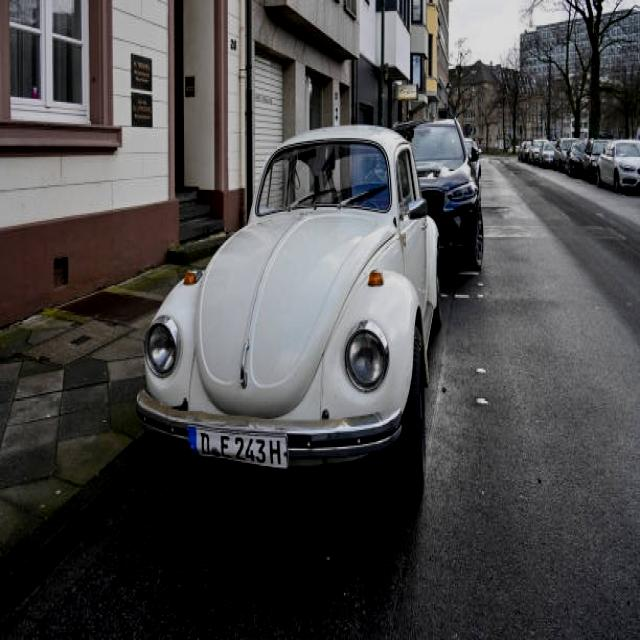car: (142, 124, 435, 482)
